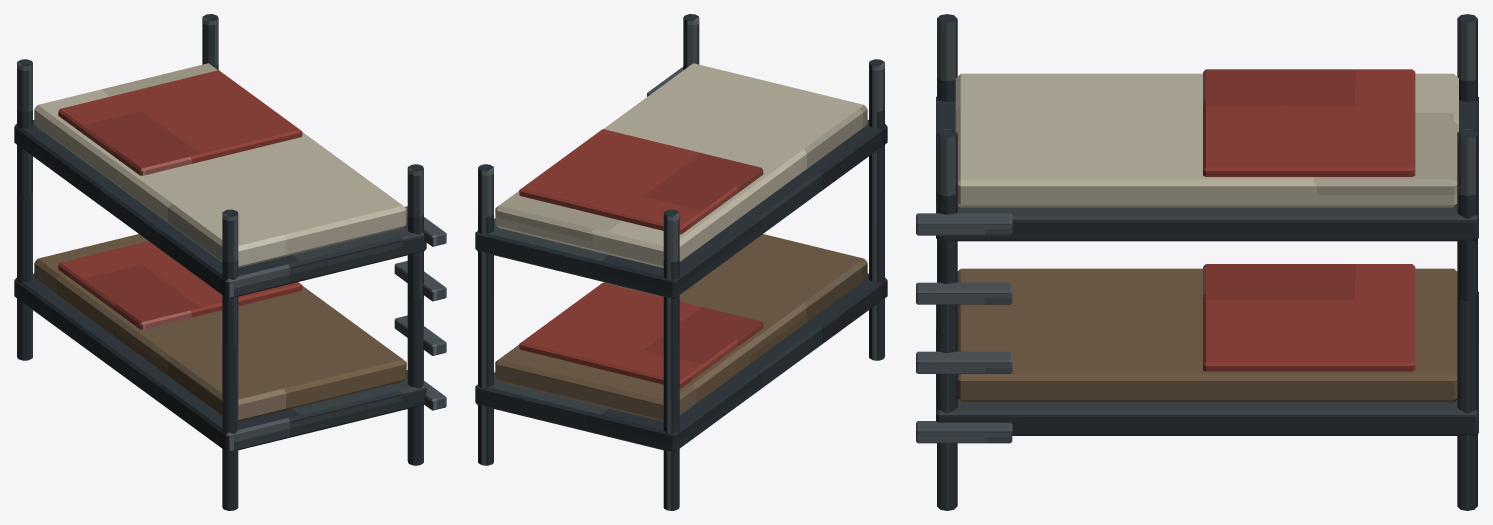
The model's file is prison_bunk.glb.
3 renders of one model, left to right at view 1: azimuth 30°, elevation 25°; view 2: azimuth 150°, elevation 25°; view 3: azimuth 270°, elevation 25°, orthographic. The views are drawn at different scales.
Parts seen in each view (by area): view 1: Mattress_1, Mattress_0, Blanket_1, Frame_0, Frame_1, Blanket_0, Post_-0.48_-0.92, Post_0.48_-0.92, Post_-0.48_0.92, Post_0.48_0.92, LadderRung_1, LadderRung_2 (+1 smaller); view 2: Mattress_1, Mattress_0, Blanket_1, Blanket_0, Frame_1, Frame_0, Post_-0.48_0.92, Post_0.48_0.92, Post_-0.48_-0.92, Post_0.48_-0.92; view 3: Mattress_1, Mattress_0, Blanket_1, Blanket_0, Frame_1, Frame_0, Post_0.48_0.92, Post_0.48_-0.92, LadderRung_3, LadderRung_2, LadderRung_1, LadderRung_0 (+2 smaller).
Boxes of the visible parts, x1,y1,x2,y2 form: Mattress_1: (34, 63, 406, 267); Mattress_0: (34, 234, 406, 421); Blanket_1: (58, 70, 302, 175); Frame_0: (14, 273, 426, 452); Frame_1: (14, 120, 426, 298); Blanket_0: (58, 241, 302, 329); Post_-0.48_-0.92: (222, 209, 238, 510); Post_0.48_-0.92: (407, 164, 423, 465); Post_-0.48_0.92: (17, 59, 32, 360); Post_0.48_0.92: (202, 14, 218, 70); LadderRung_1: (394, 315, 446, 355); LadderRung_2: (394, 261, 446, 301); Mattress_1: (495, 63, 867, 267); Mattress_0: (495, 234, 867, 421); Blanket_1: (519, 129, 763, 234); Blanket_0: (519, 283, 763, 388); Frame_1: (475, 120, 887, 298); Frame_0: (475, 273, 887, 452); Post_-0.48_0.92: (663, 209, 679, 510); Post_0.48_0.92: (478, 164, 493, 465); Post_-0.48_-0.92: (869, 59, 884, 360); Post_0.48_-0.92: (683, 14, 699, 70); Mattress_1: (955, 73, 1458, 207); Mattress_0: (957, 268, 1457, 402); Blanket_1: (1203, 69, 1415, 176); Blanket_0: (1203, 264, 1415, 371); Frame_1: (936, 96, 1478, 241); Frame_0: (936, 291, 1478, 435); Post_0.48_0.92: (1457, 128, 1477, 510); Post_0.48_-0.92: (937, 128, 957, 510); LadderRung_3: (916, 213, 1012, 235); LadderRung_2: (916, 282, 1012, 304); LadderRung_1: (916, 351, 1012, 373); LadderRung_0: (916, 421, 1012, 443).
Size of the model in its own units: 1.1 by 1.46 by 1.99.
Materials: 2 (2 with a texture image).
